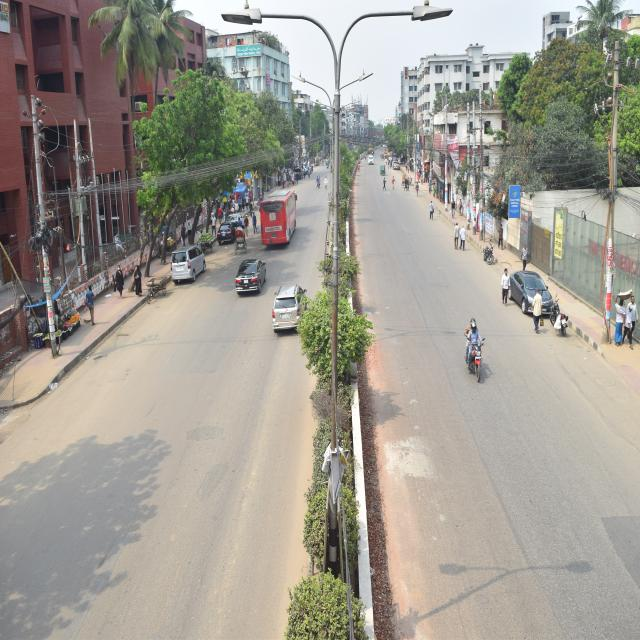bus: (255, 178, 305, 250)
car: (268, 272, 310, 342), (508, 268, 553, 320), (235, 253, 268, 300), (216, 219, 238, 250)
microbus: (167, 243, 206, 286)
motorbike: (464, 324, 489, 384), (546, 291, 573, 340), (478, 236, 499, 265)
